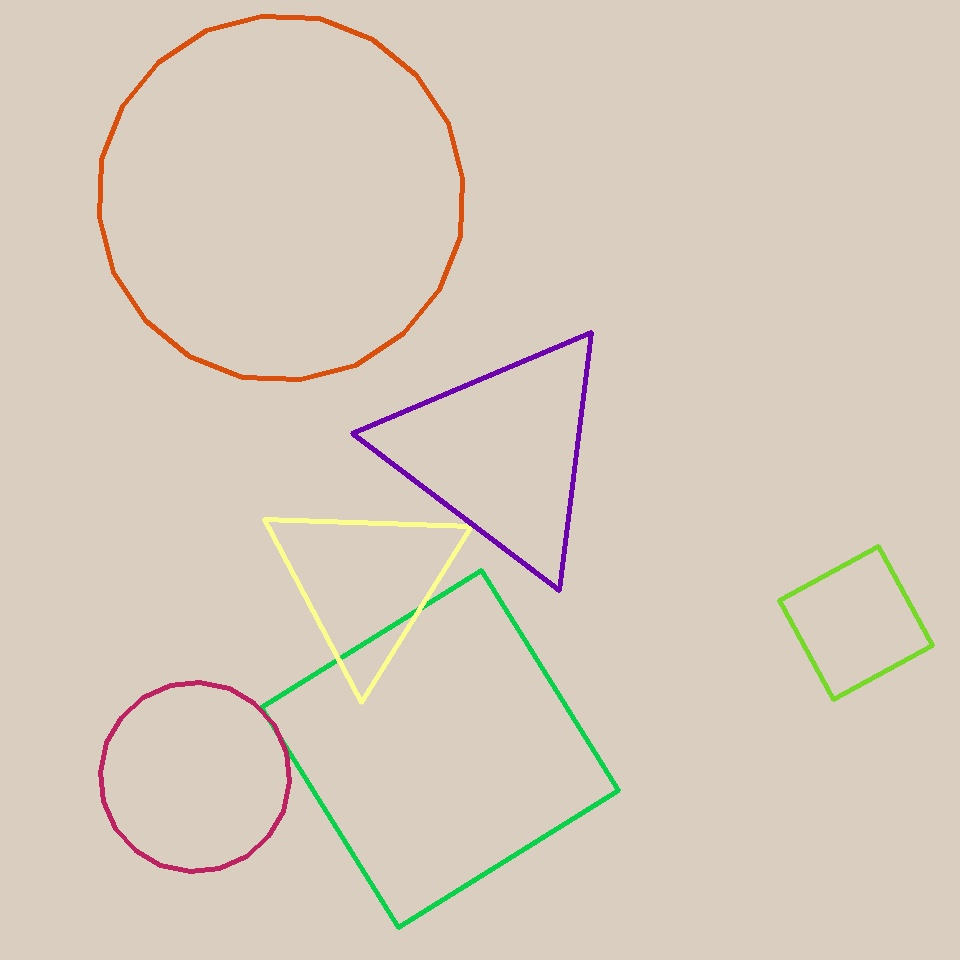circle: (381, 323, 620, 581), (262, 492, 469, 674)
square: (261, 570, 618, 927), (780, 546, 933, 700)
triangle: (100, 16, 463, 379), (100, 682, 290, 871)
